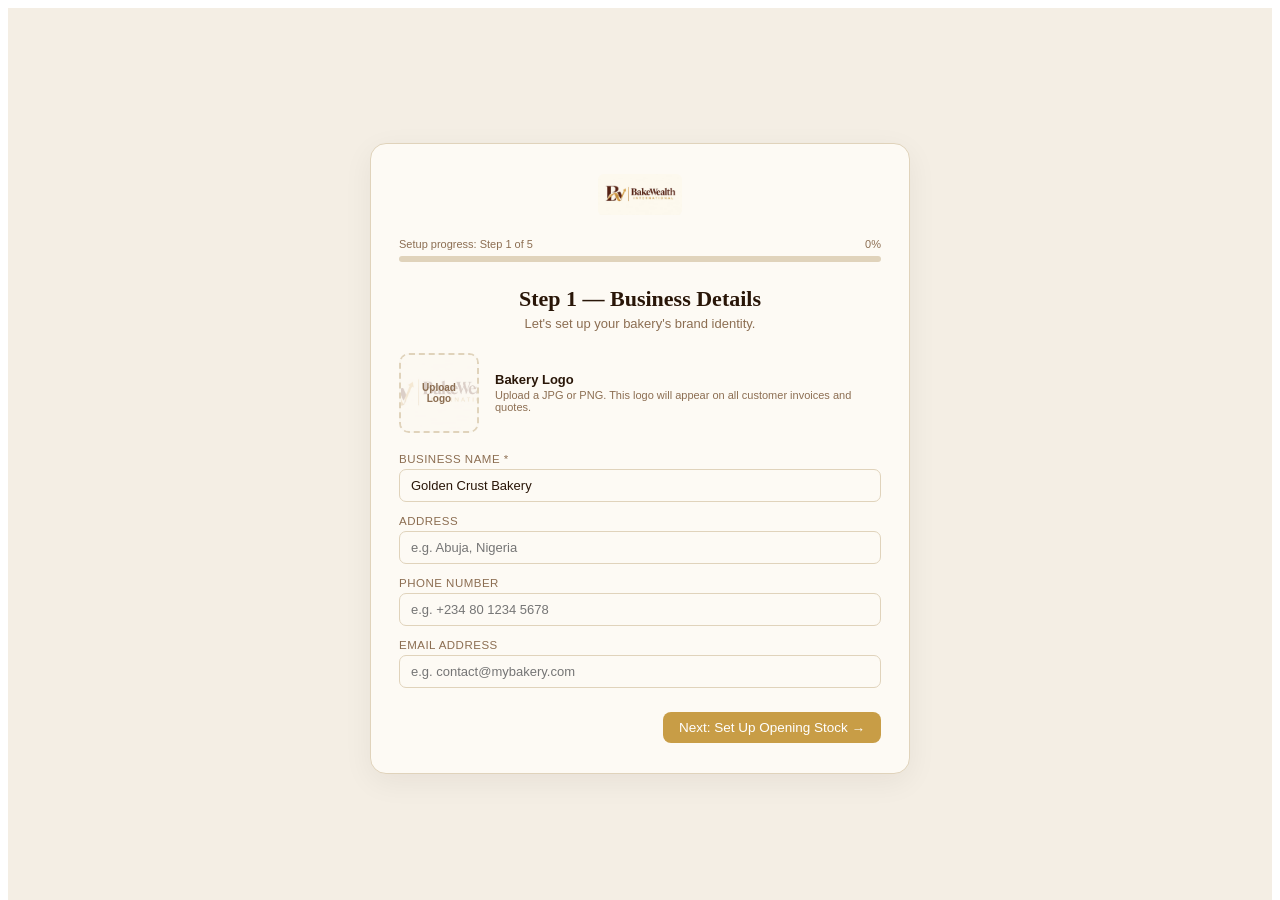
Scenario: Onboarding AI PDF & Photo Scanning › Manual Add modal provides Auto-Fill from Photo button
Click the button "Next: Set Up Opening Stock →".
click(772, 727)  # box [663,712,881,742]
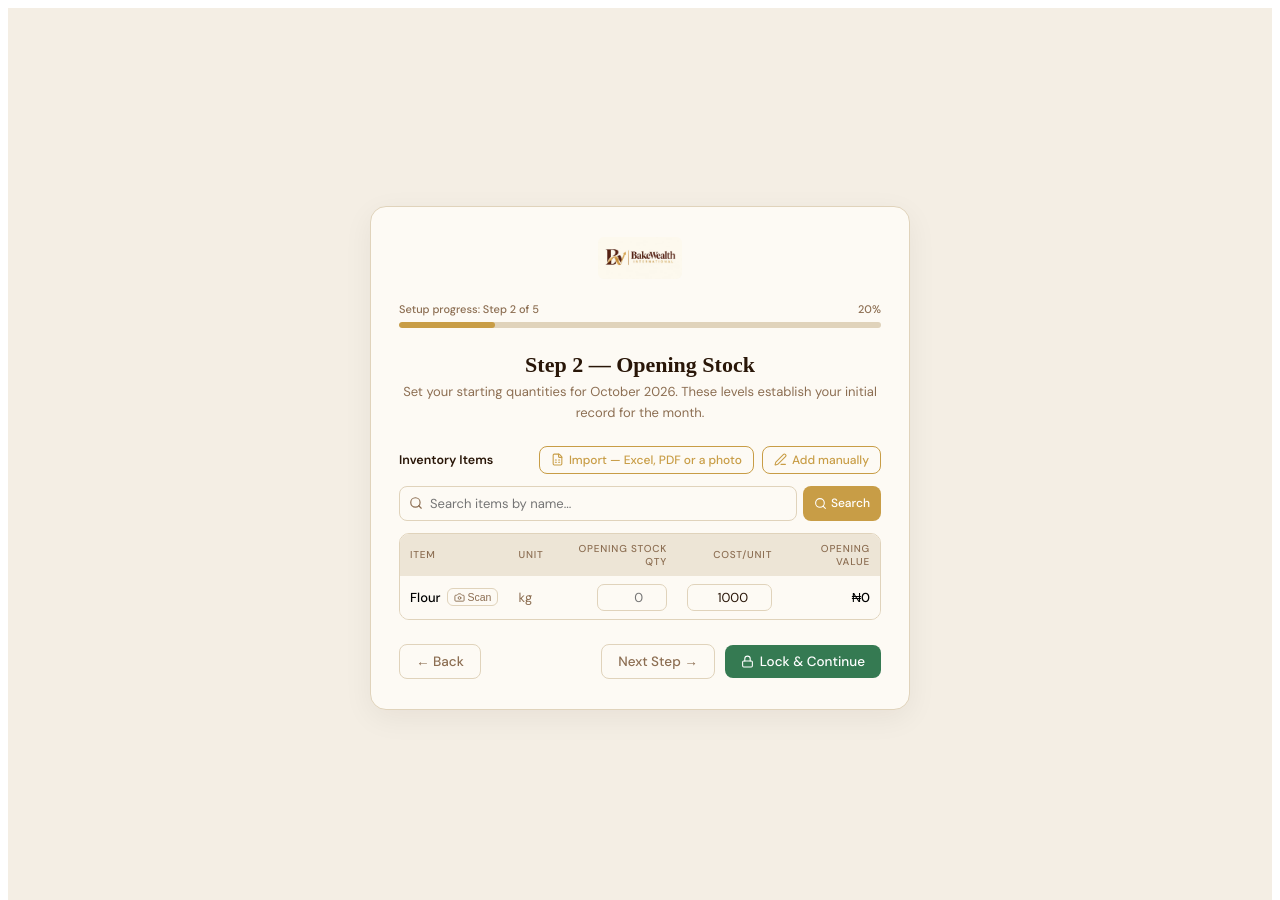
Click the button "Add manually".
click(822, 460)  # box [762,446,881,474]
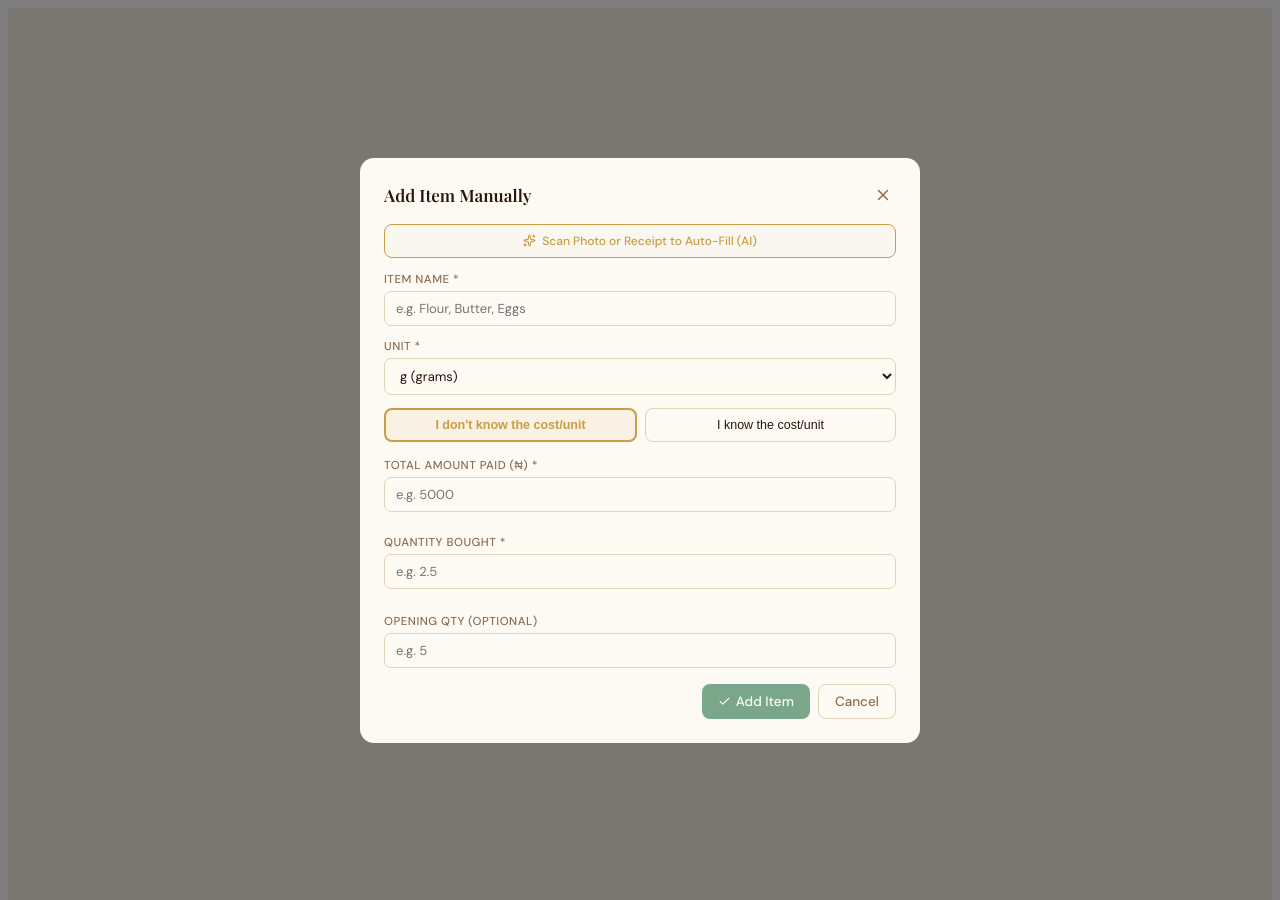
Expected: the text "Scan Photo or Receipt to Auto-Fill (AI)" is shown, [384,224,896,258]
